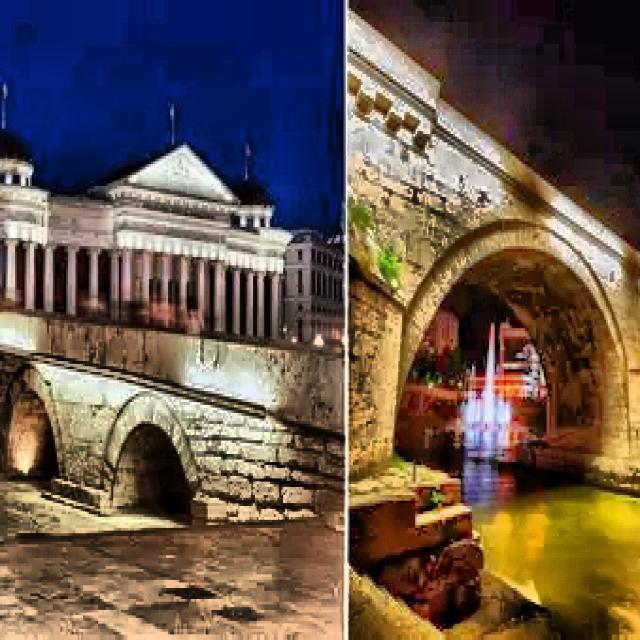stone bridge: (345, 0, 640, 503), (0, 288, 348, 544)
